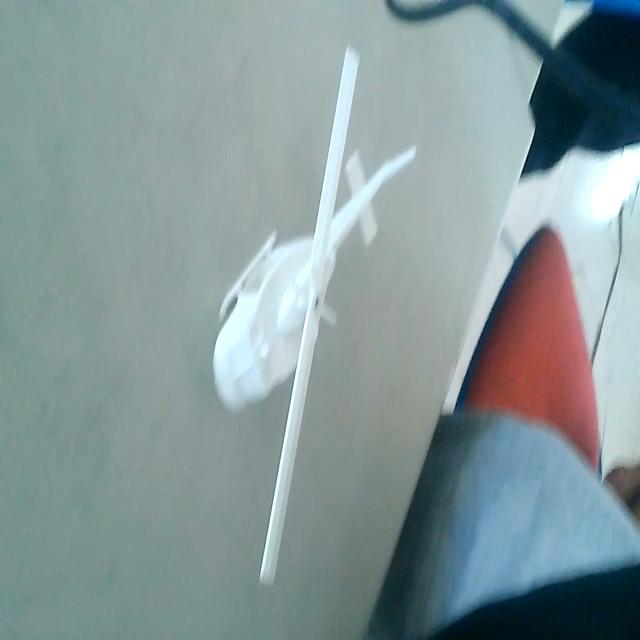Helicopter: (210, 34, 422, 602)
